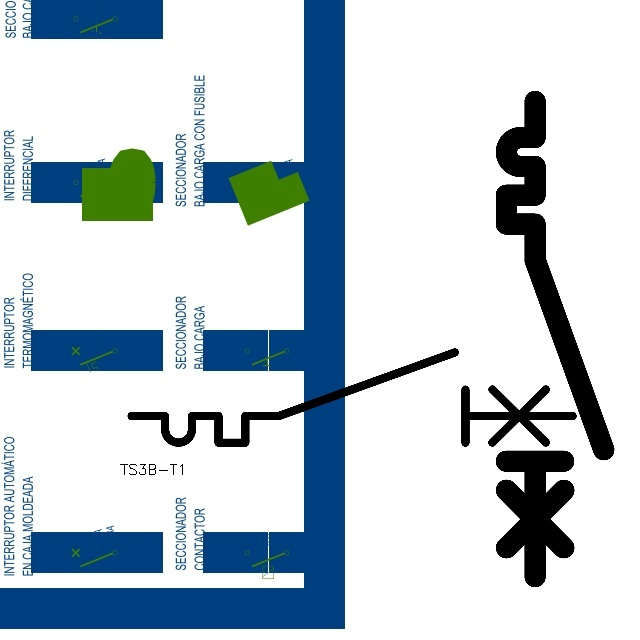interruptor_termomagnetico: (494, 89, 616, 589), (120, 341, 584, 454)
